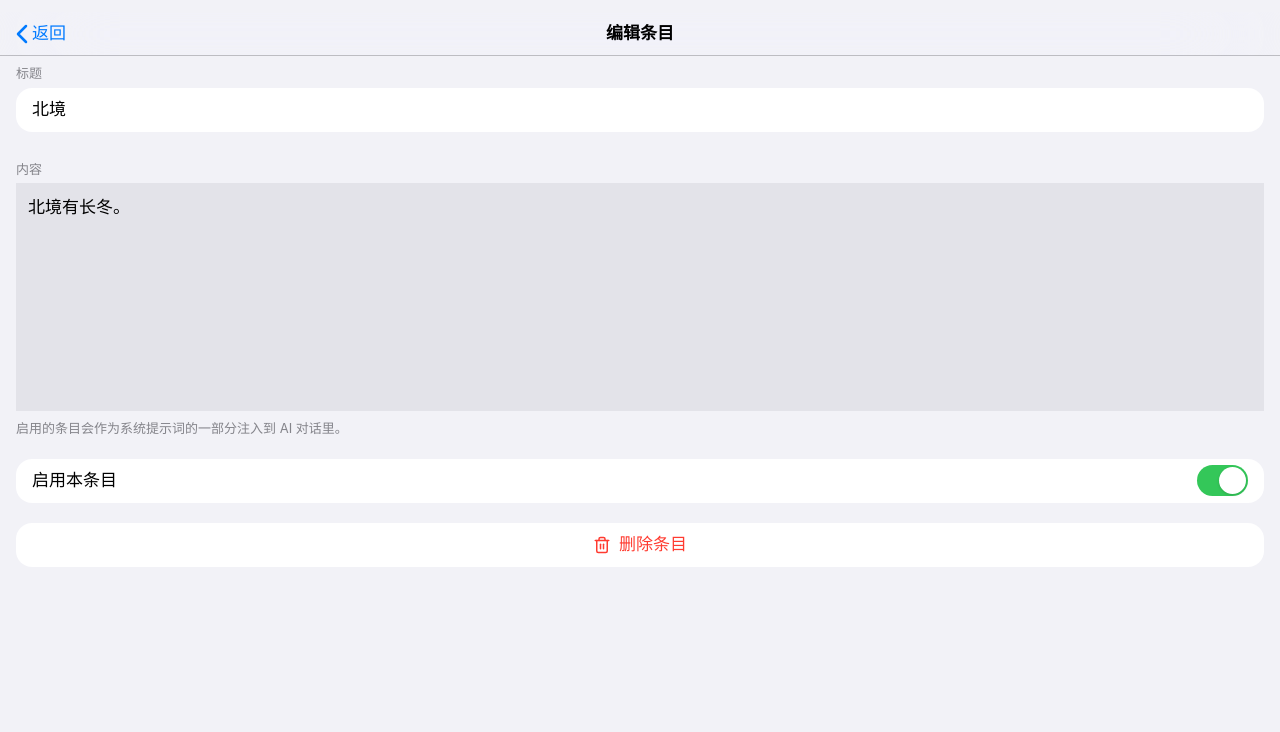
Test: WorldBookEntryEditPage › deletes the current entry after confirmation and returns to the book editor
The image size is (1280, 732).
Expected: the field showing "北境" is shown, [32,97,1248,122]
What coordinates should you click on to do the following:
click the button "删除条目"
I would click on:
 (640, 544)
Its box is [16,522,1264,566].
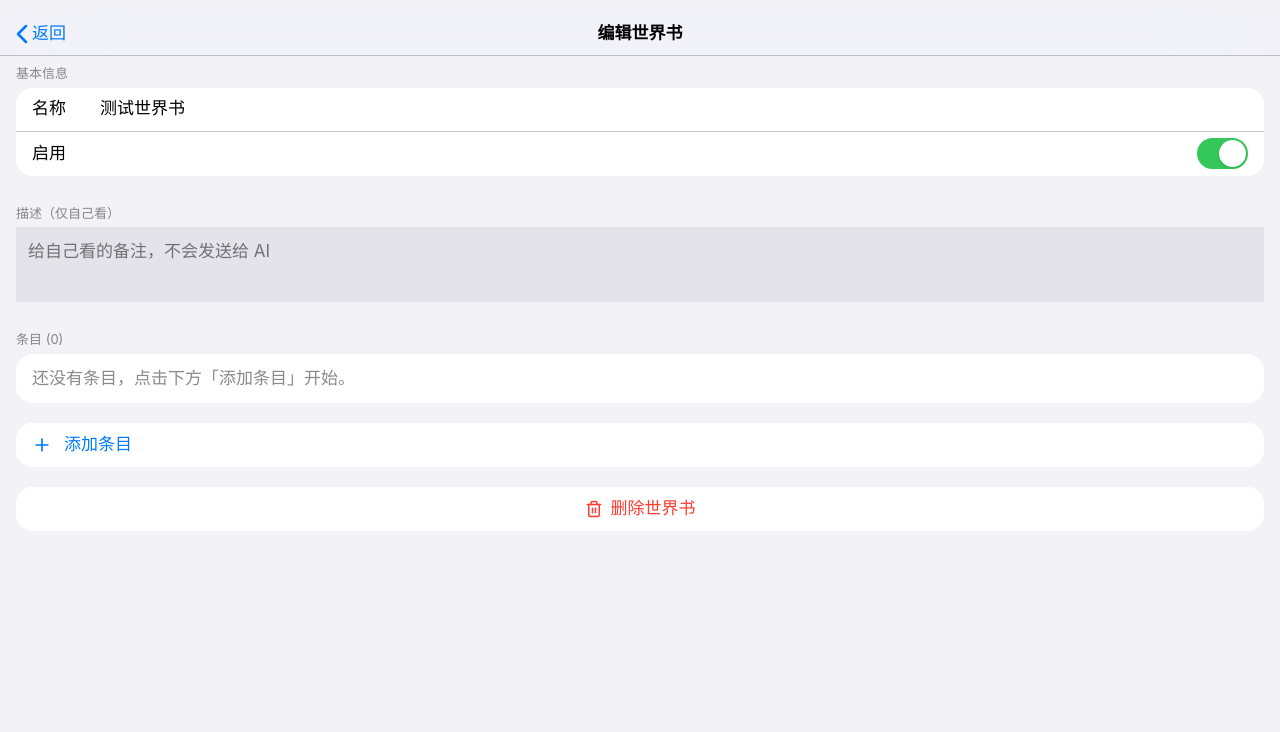
Expected: the text "还没有条目，点击下方「添加条目」开始。" is shown, [32,368,355,388]
